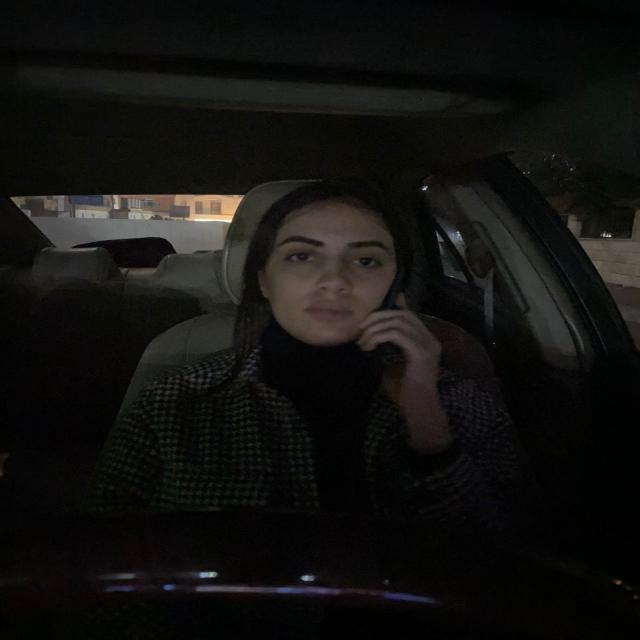mobile: (373, 289, 415, 375)
person: (245, 172, 405, 353)
